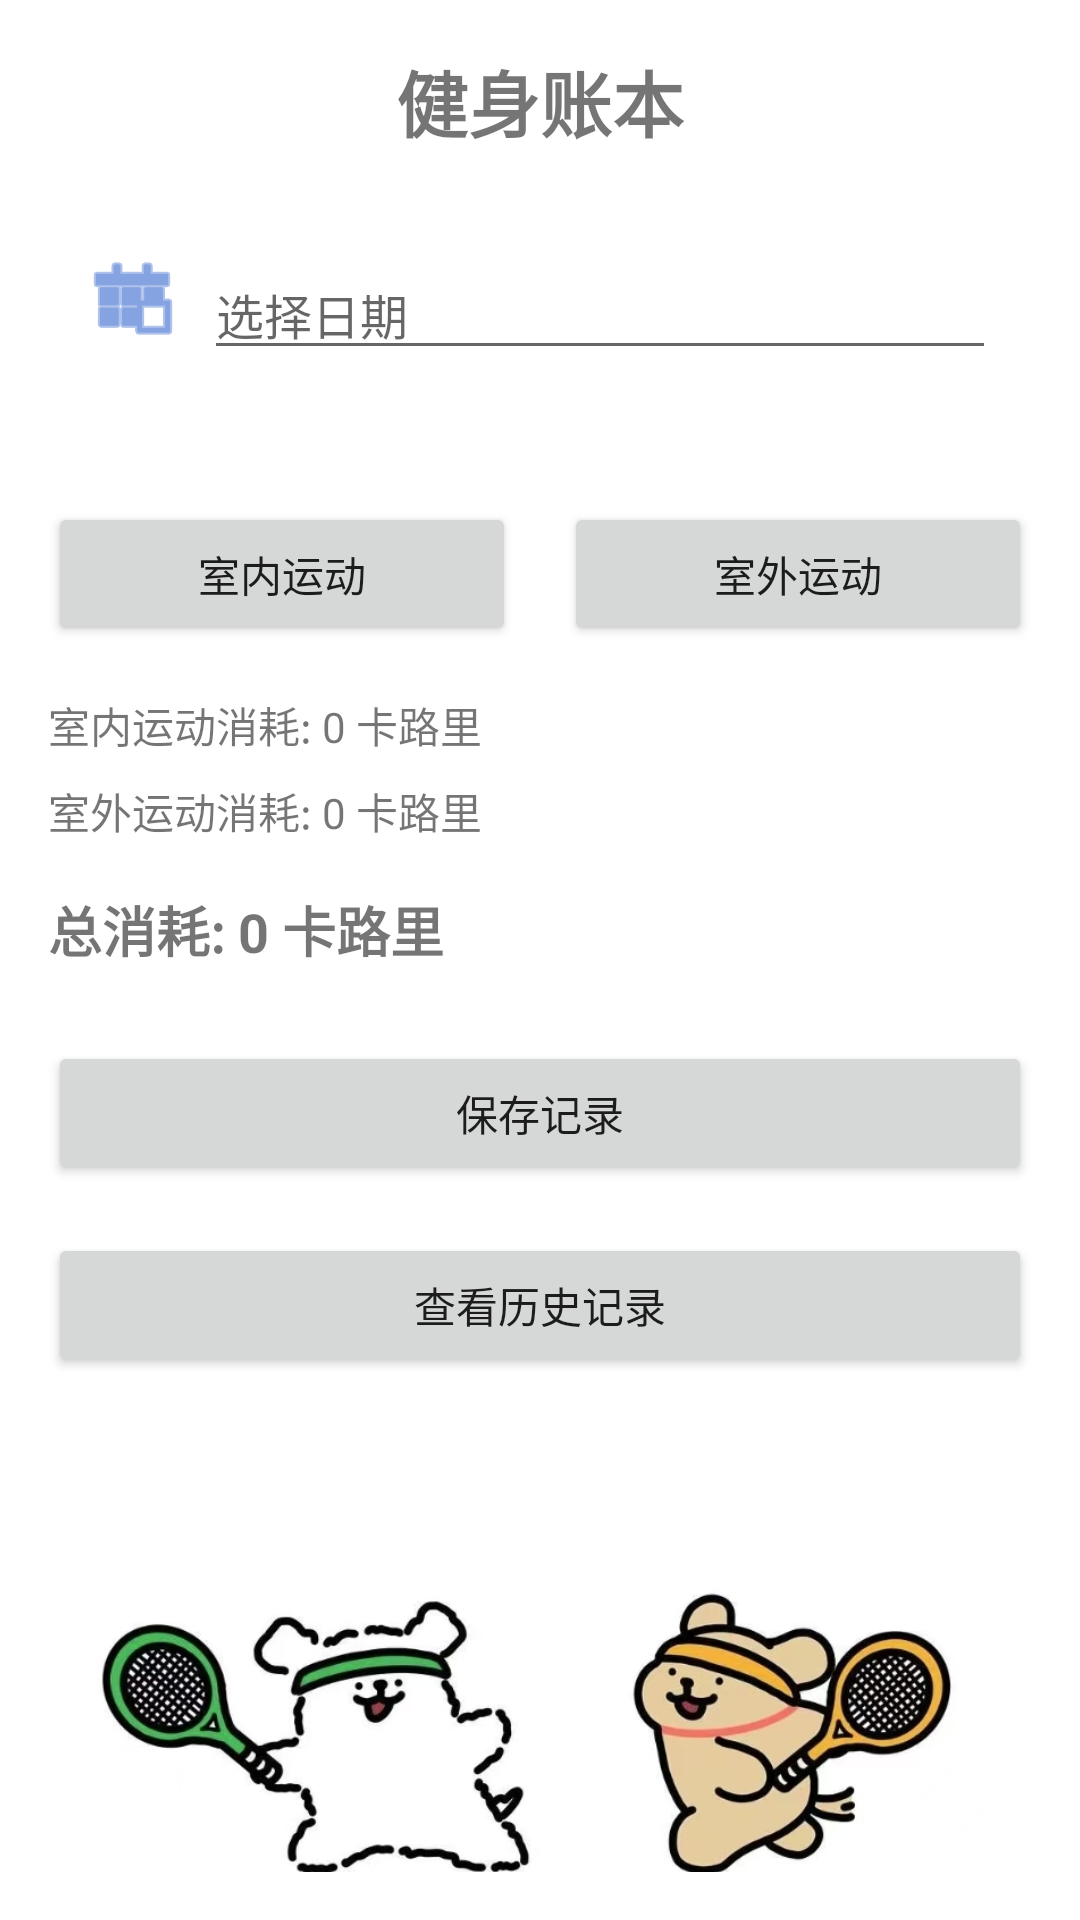

Point at icon controls on the screen. Image size 1080w x 1920h, points as (x=x, y=y).
today: (x=133, y=298)
